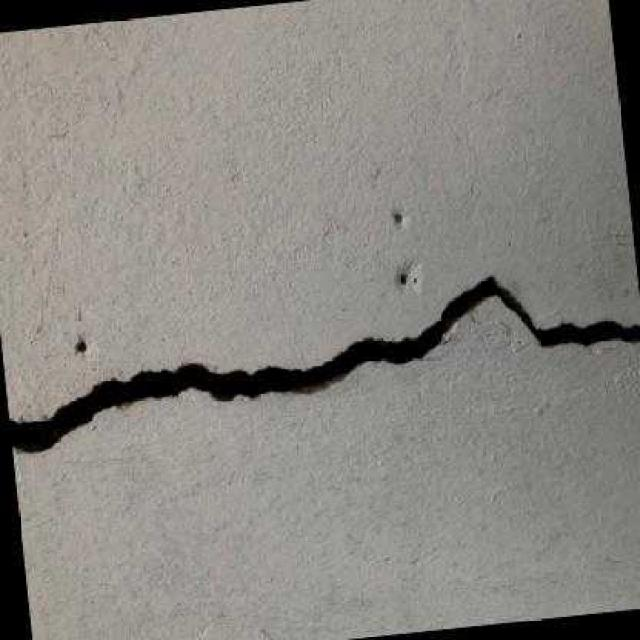D00: (8, 274, 640, 450)
